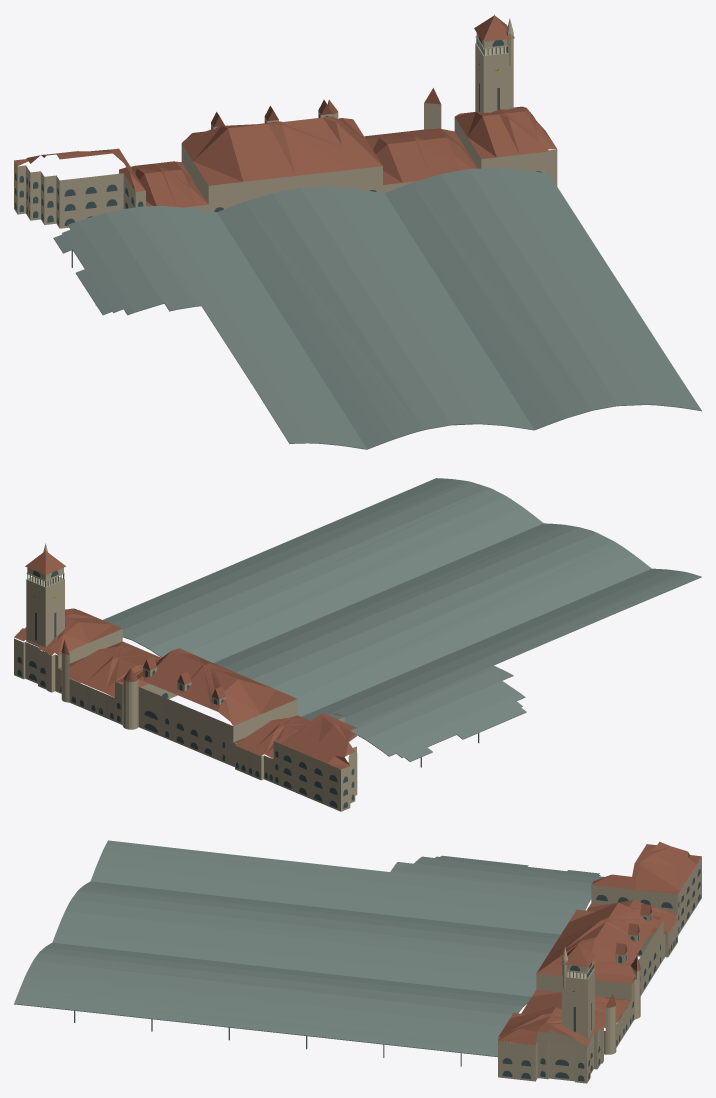
Rendered from st-louis-union-station-far.glb.
3 views of the same model, one above another, from view 1: azimuth 30°, elevation 25°; view 2: azimuth 150°, elevation 25°; view 3: azimuth 270°, elevation 25° (orthographic). The views are drawn at different scales.
Visible parts, largest first — view 1: st-louis-union-station-0-metal, st-louis-union-station-0-red, st-louis-union-station-0-stone, st-louis-union-station-0-glass; view 2: st-louis-union-station-0-metal, st-louis-union-station-0-stone, st-louis-union-station-0-red, st-louis-union-station-0-glass; view 3: st-louis-union-station-0-metal, st-louis-union-station-0-red, st-louis-union-station-0-stone, st-louis-union-station-0-glass.
Boxes of the visible parts, x1,y1,x2,y2 form: st-louis-union-station-0-metal: [53, 14, 701, 449]; st-louis-union-station-0-red: [14, 15, 556, 207]; st-louis-union-station-0-stone: [14, 18, 557, 228]; st-louis-union-station-0-glass: [15, 36, 541, 225]; st-louis-union-station-0-metal: [45, 478, 701, 761]; st-louis-union-station-0-stone: [14, 543, 357, 811]; st-louis-union-station-0-red: [14, 550, 356, 769]; st-louis-union-station-0-glass: [17, 570, 354, 808]; st-louis-union-station-0-metal: [14, 840, 604, 1057]; st-louis-union-station-0-red: [498, 841, 701, 1045]; st-louis-union-station-0-stone: [498, 857, 701, 1083]; st-louis-union-station-0-glass: [502, 869, 700, 1081].
Bounding box in the file's own units: 253 × 70.1 × 344.
